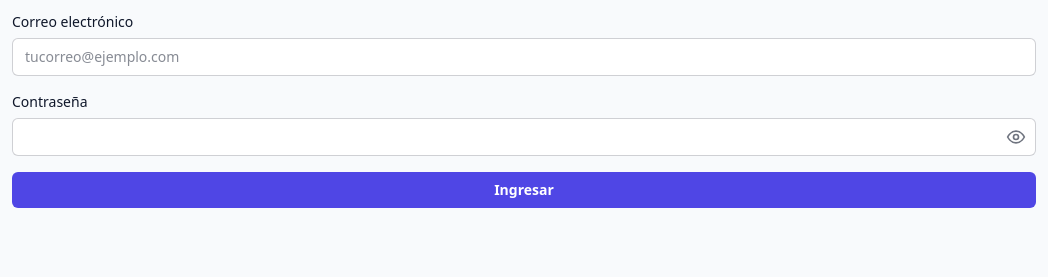
Test case: FormularioLogin › ante un 401 muestra el mensaje de credenciales inválidas
Type "usuario@ejemplo.com" into the field labelled "Correo electrónico". click: (524,57)
box: [12,38,1036,76]
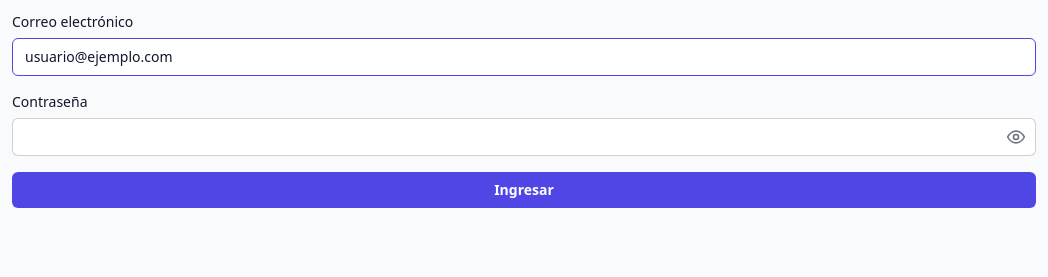
Type "clave-de-ejemplo" into the password field labelled "Contraseña". click: (524,137)
box: [12,118,1036,156]
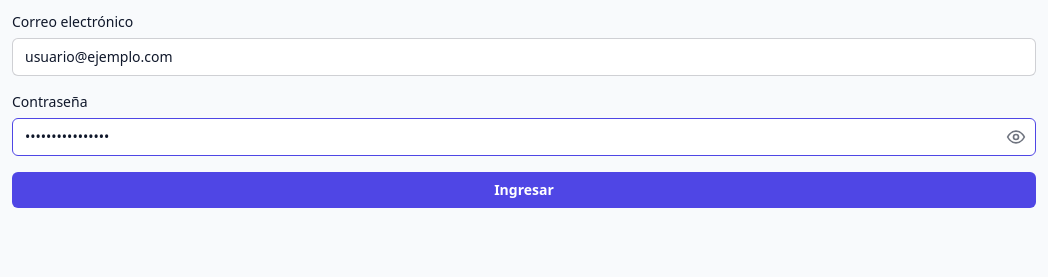
Click the button "Ingresar". click: (524,190)
box: [12,172,1036,208]
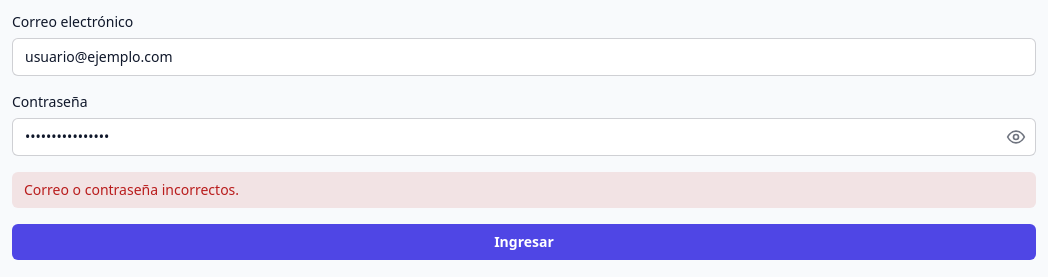
Result: the message reads "Correo o contraseña incorrectos." at [24,180,239,199]
